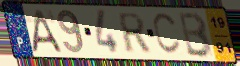4: (95, 7, 120, 57)
9: (56, 8, 86, 55)
A: (30, 8, 64, 54)
B: (178, 11, 214, 59)
C: (151, 12, 183, 57)
R: (117, 12, 152, 55)
